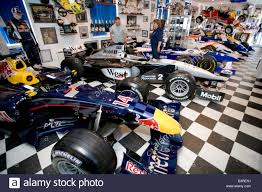FormulaOneCar: (1, 54, 187, 174), (46, 37, 229, 101)
